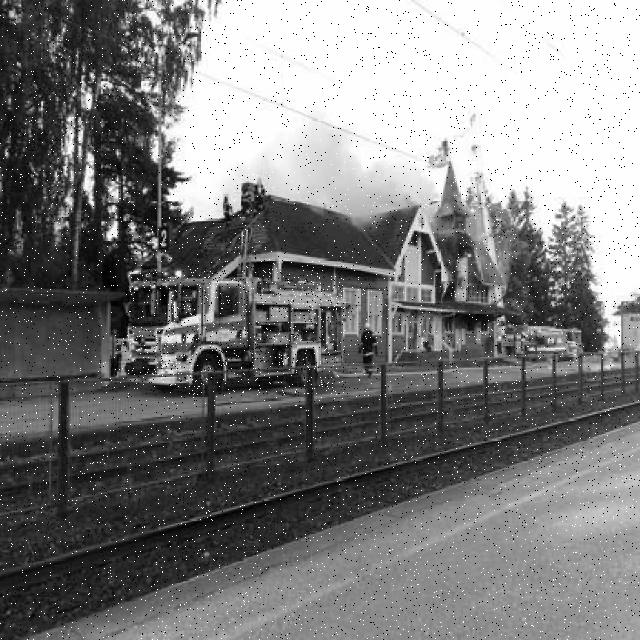Fire Truck: (125, 270, 346, 395)
